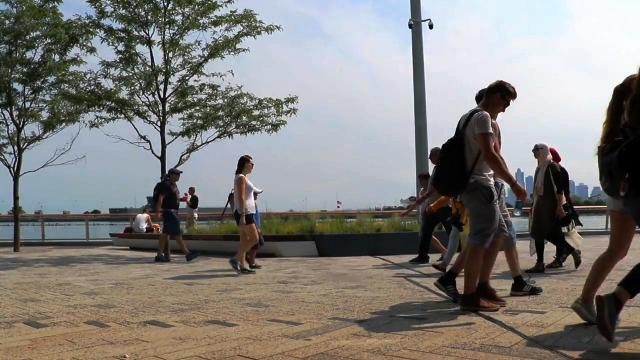berjalan: (436, 71, 520, 316), (516, 134, 584, 276), (224, 152, 264, 276), (154, 164, 198, 268)
